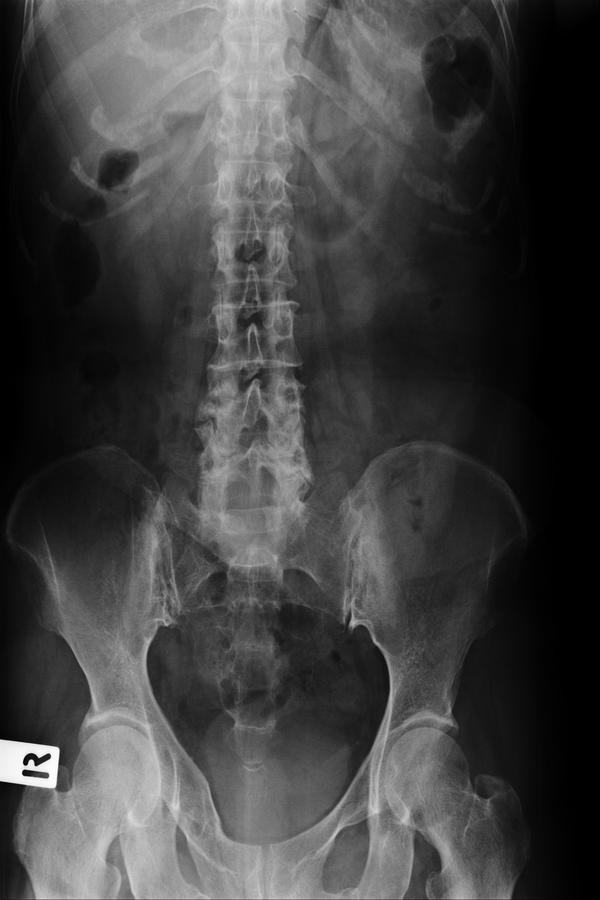not lumbar scoliosis: (191, 149, 315, 572)
